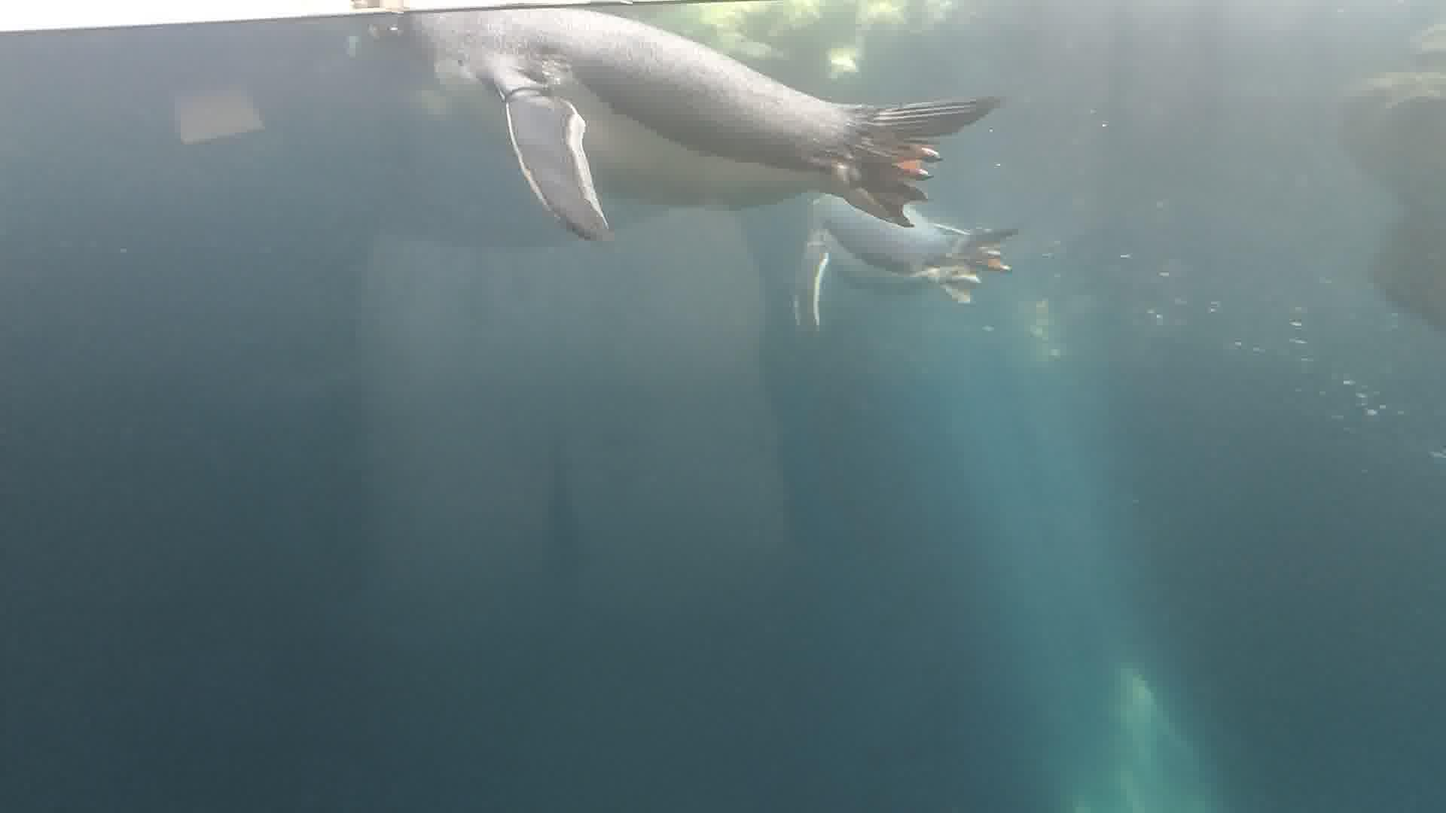apple: (367, 0, 1000, 242), (793, 193, 1020, 332)
